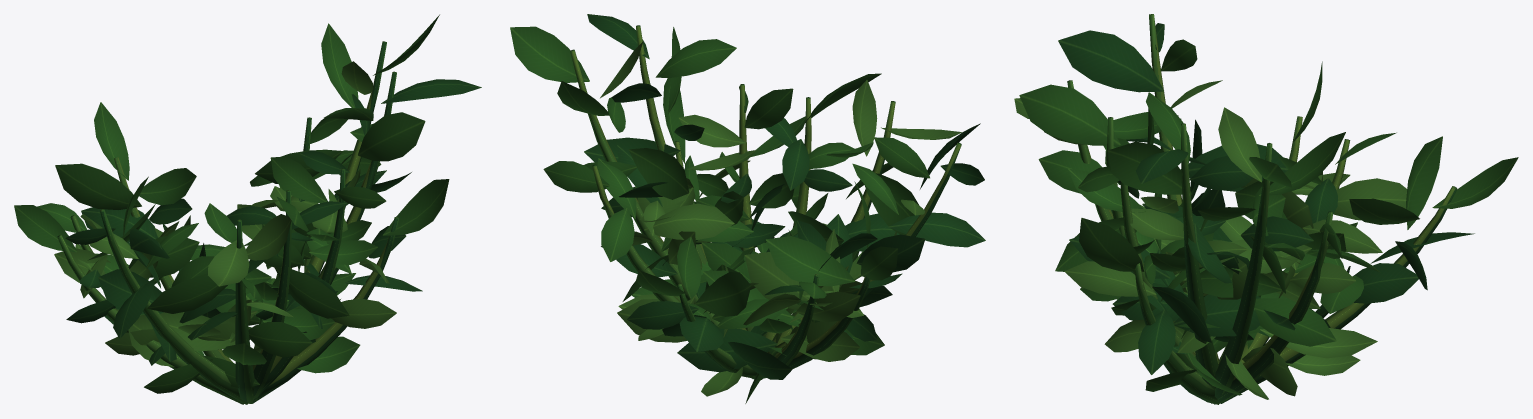
Rendered from Green_shrub_1.glb.
3 views of the same model, side by side, from view 1: azimuth 30°, elevation 25°; view 2: azimuth 150°, elevation 25°; view 3: azimuth 270°, elevation 25° (orthographic). The views are drawn at different scales.
Visible parts, largest first — view 1: Green_shrub_1_Leaves.004, Green_shrub_1_Stems.004; view 2: Green_shrub_1_Leaves.004, Green_shrub_1_Stems.004; view 3: Green_shrub_1_Leaves.004, Green_shrub_1_Stems.004.
Part boxes in pixels (x1,y1,x2,y2): Green_shrub_1_Leaves.004: [14, 14, 481, 393]; Green_shrub_1_Stems.004: [57, 41, 398, 404]; Green_shrub_1_Leaves.004: [510, 14, 985, 403]; Green_shrub_1_Stems.004: [570, 25, 961, 379]; Green_shrub_1_Leaves.004: [1014, 23, 1518, 399]; Green_shrub_1_Stems.004: [1067, 14, 1457, 404].
Bounding box in the file's own units: 1.5 × 1.07 × 1.35.
1 material, 1 textured.
